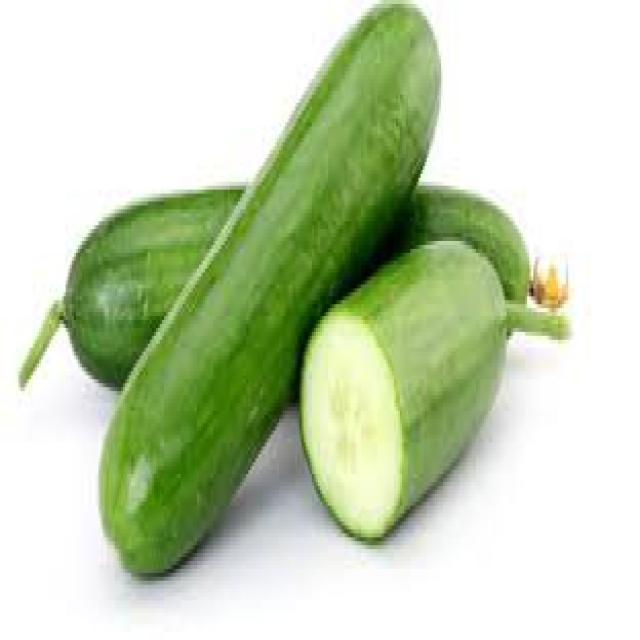cucumber: (66, 0, 529, 573)
